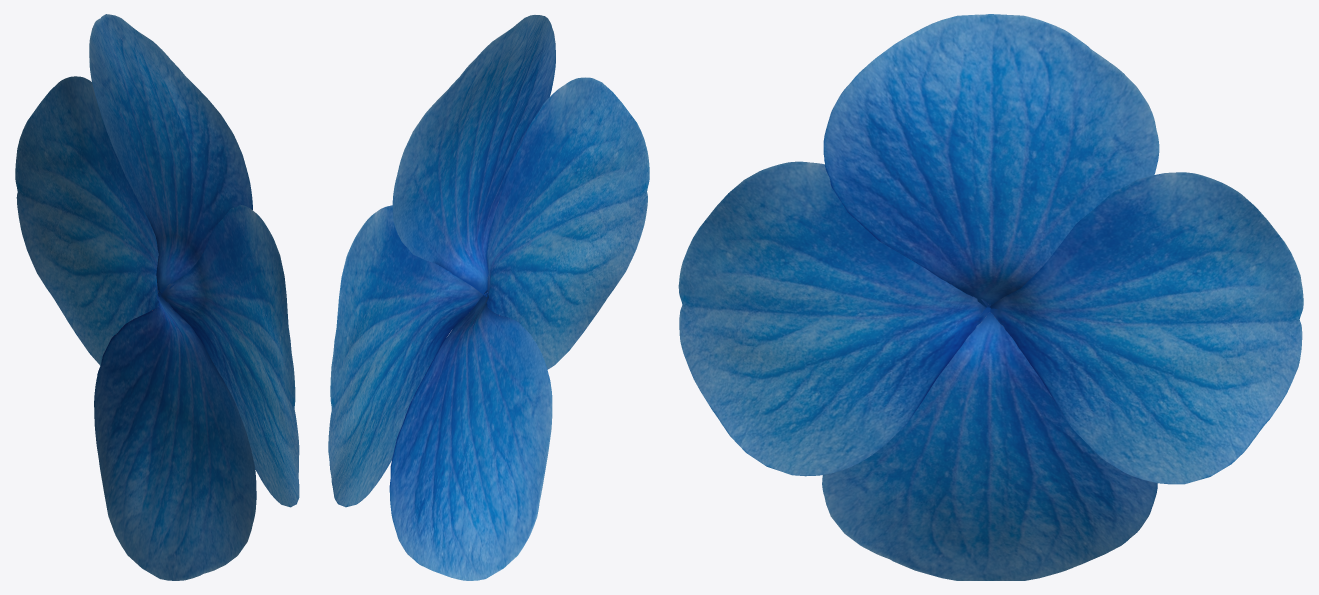
The model's file is Hydragea_New.fbx.
3 views of the same model, side by side, from view 1: azimuth 30°, elevation 25°; view 2: azimuth 150°, elevation 25°; view 3: azimuth 270°, elevation 25° (orthographic). The views are drawn at different scales.
Visible parts, largest first — view 1: Cone; view 2: Cone; view 3: Cone.
Boxes of the visible parts, <box> form: Cone: <box>15,14,299,580</box>; Cone: <box>328,15,649,580</box>; Cone: <box>678,14,1303,580</box>.
Size of the model in its own units: 49.75 by 420 by 424.
